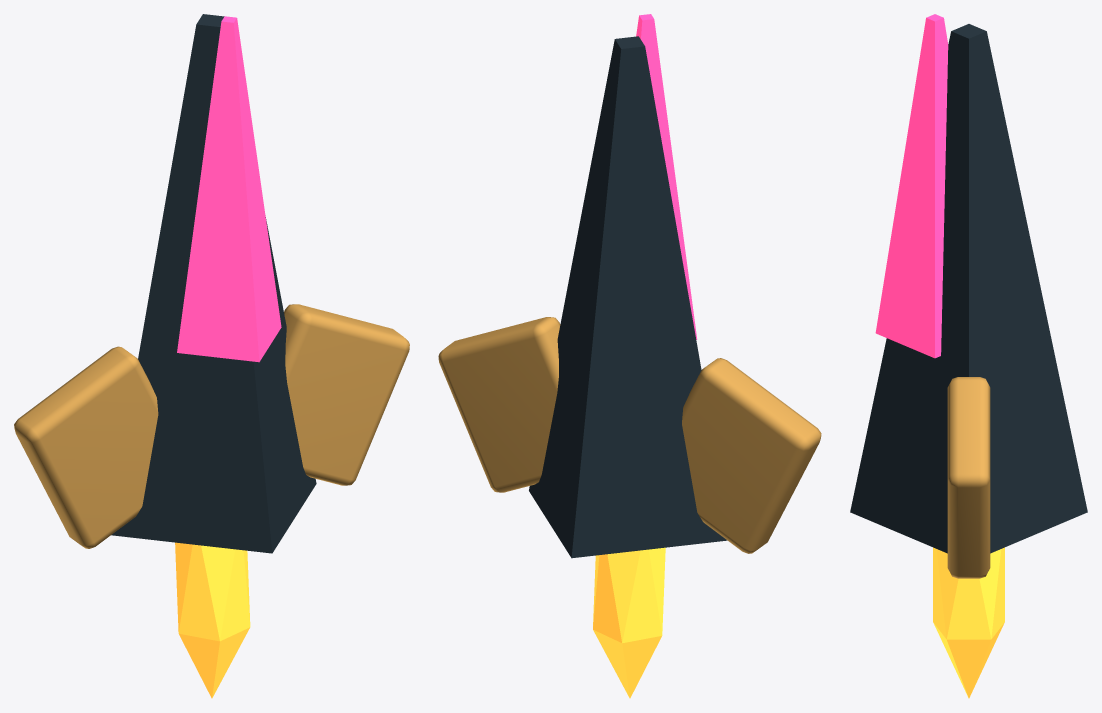
The model's file is dart.glb.
3 views of the same model, side by side, from view 1: azimuth 30°, elevation 25°; view 2: azimuth 150°, elevation 25°; view 3: azimuth 270°, elevation 25° (orthographic). The views are drawn at different scales.
Parts seen in each view (by area): view 1: Housing.003, Core.003, Fin-1, Fin1, Exhaust; view 2: Housing.003, Fin-1, Fin1, Exhaust, Core.003; view 3: Housing.003, Core.003, Fin1, Exhaust.
Boxes of the visible parts, x1,y1,x2,y2 form: Housing.003: (111,14,316,553); Core.003: (177,16,281,362); Fin-1: (14,346,158,548); Fin1: (284,304,409,485); Exhaust: (175,542,250,698); Housing.003: (529,36,727,558); Fin-1: (682,358,821,553); Fin1: (438,317,560,492); Exhaust: (593,547,665,698); Core.003: (636,14,697,339); Housing.003: (850,24,1087,553); Core.003: (875,14,948,358); Fin1: (947,377,990,578); Exhaust: (933,547,1004,698).
Size of the model in its own units: 1.02 by 1.77 by 0.56.
